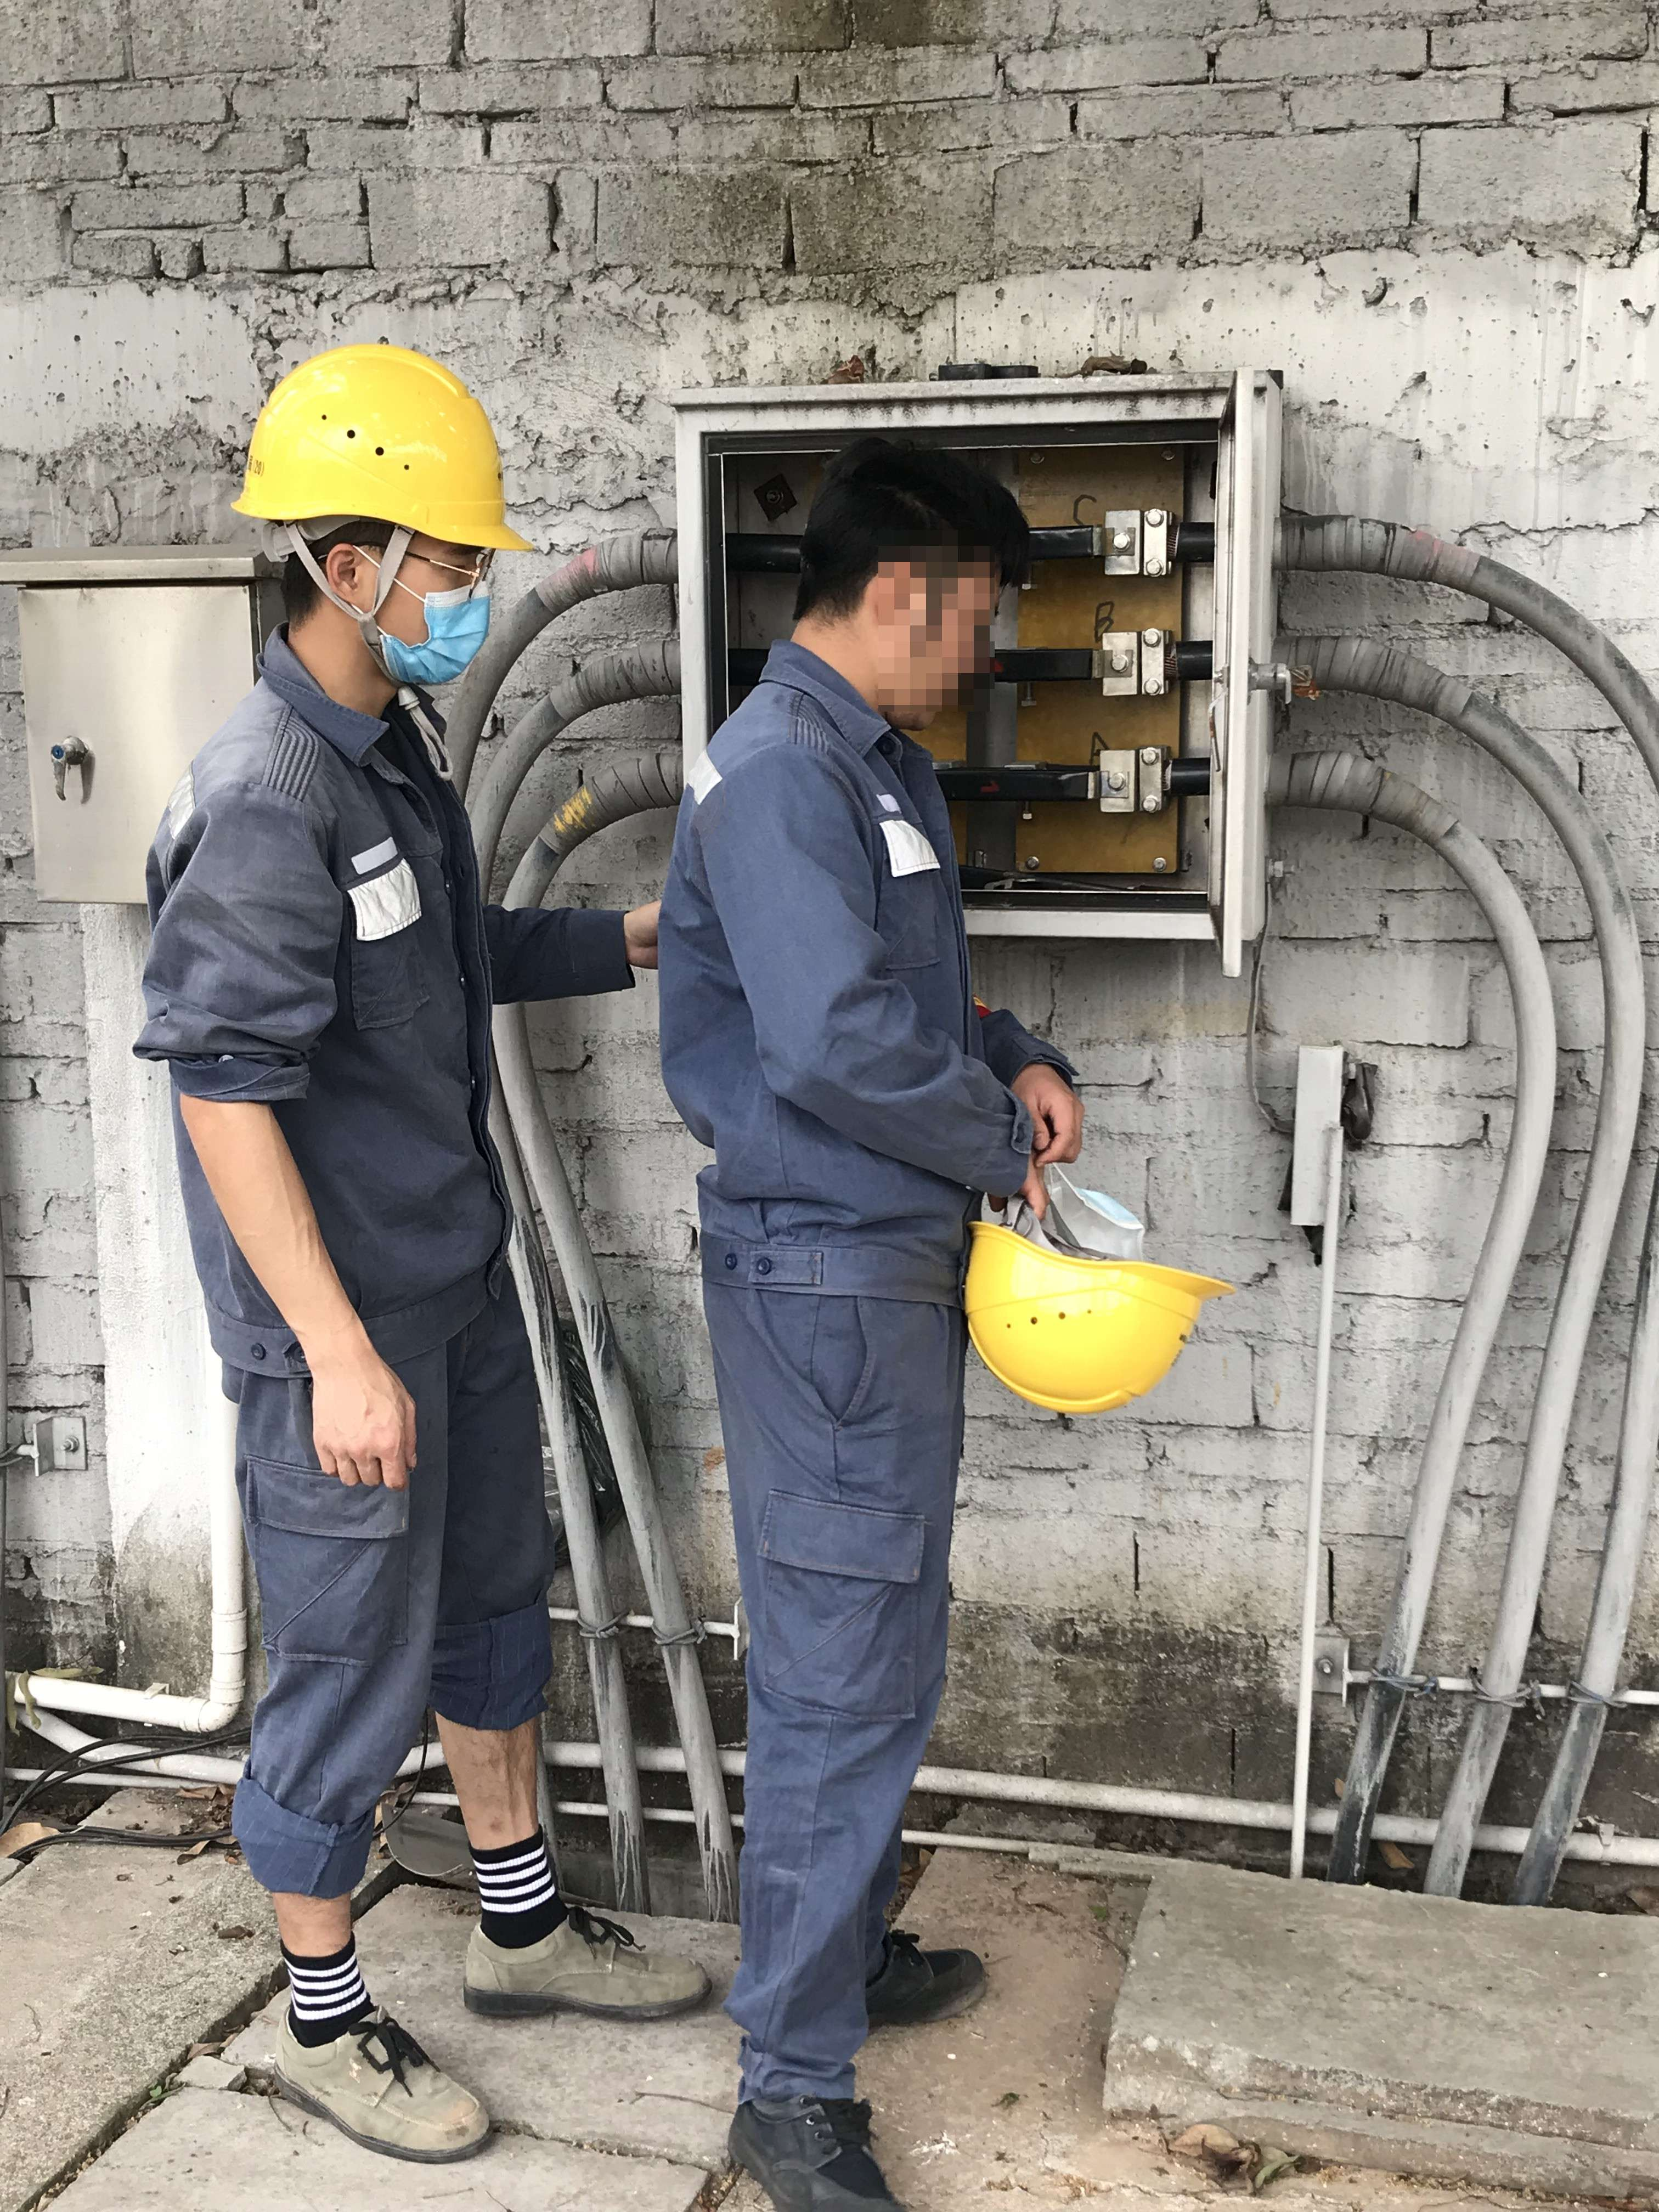downsuit: (706, 1277, 938, 2125), (239, 1329, 551, 1851)
upsuit: (164, 721, 530, 1320), (676, 678, 1000, 1263)
wrongtop: (159, 989, 420, 1472)
